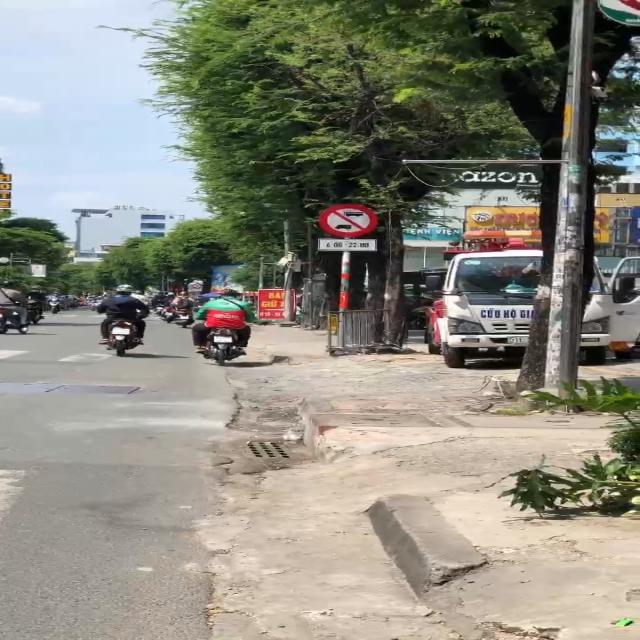Bien bao cam xe oto khach va xe oto tai: (314, 200, 384, 239)
